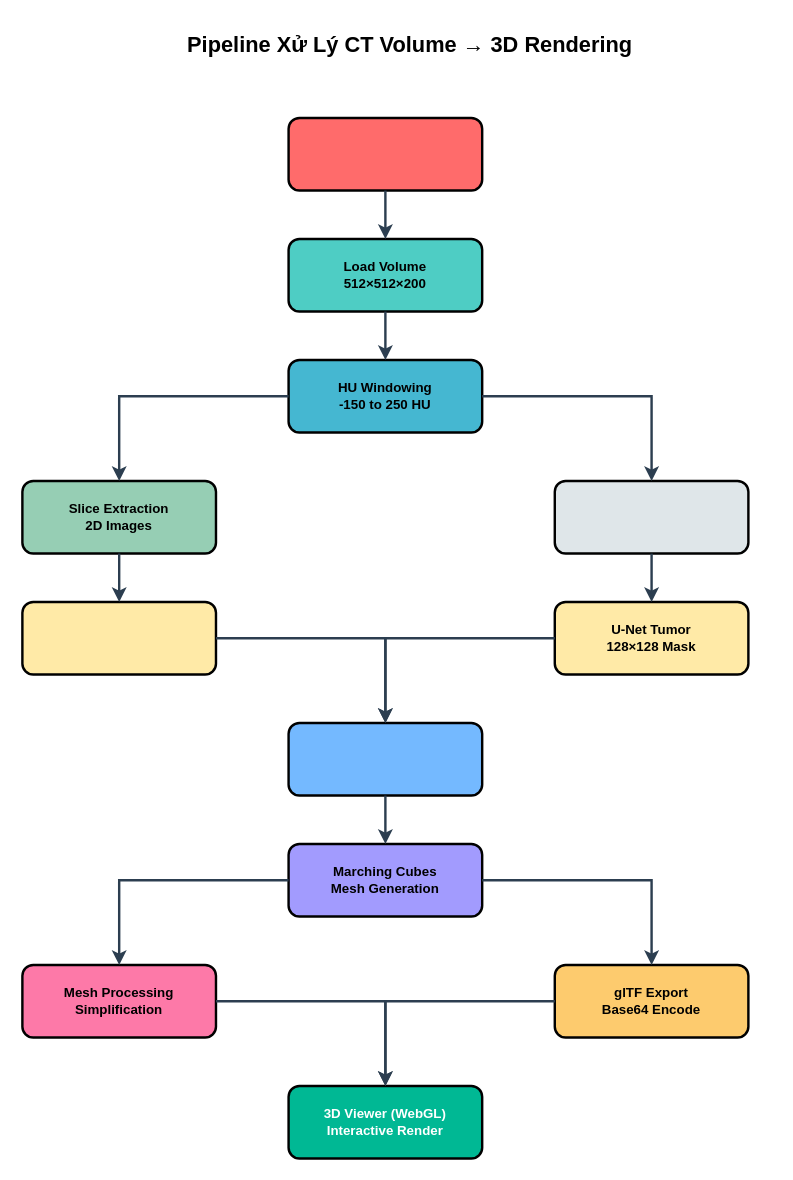
The diagram is 793 pixels wide and 1180 high, and some of its shapes have lost their labels. Here are the shapes that lost their labels. From the top down, the centre of each, then its label:
At [385,153]: "NIfTI File .nii/.nii.gz".
At [651,516]: "Loop Processing Z=0 to N".
At [119,637]: "U-Net Pancreas 256×256 Mask".
At [385,758]: "3D Mask Volume 256×256×N".
